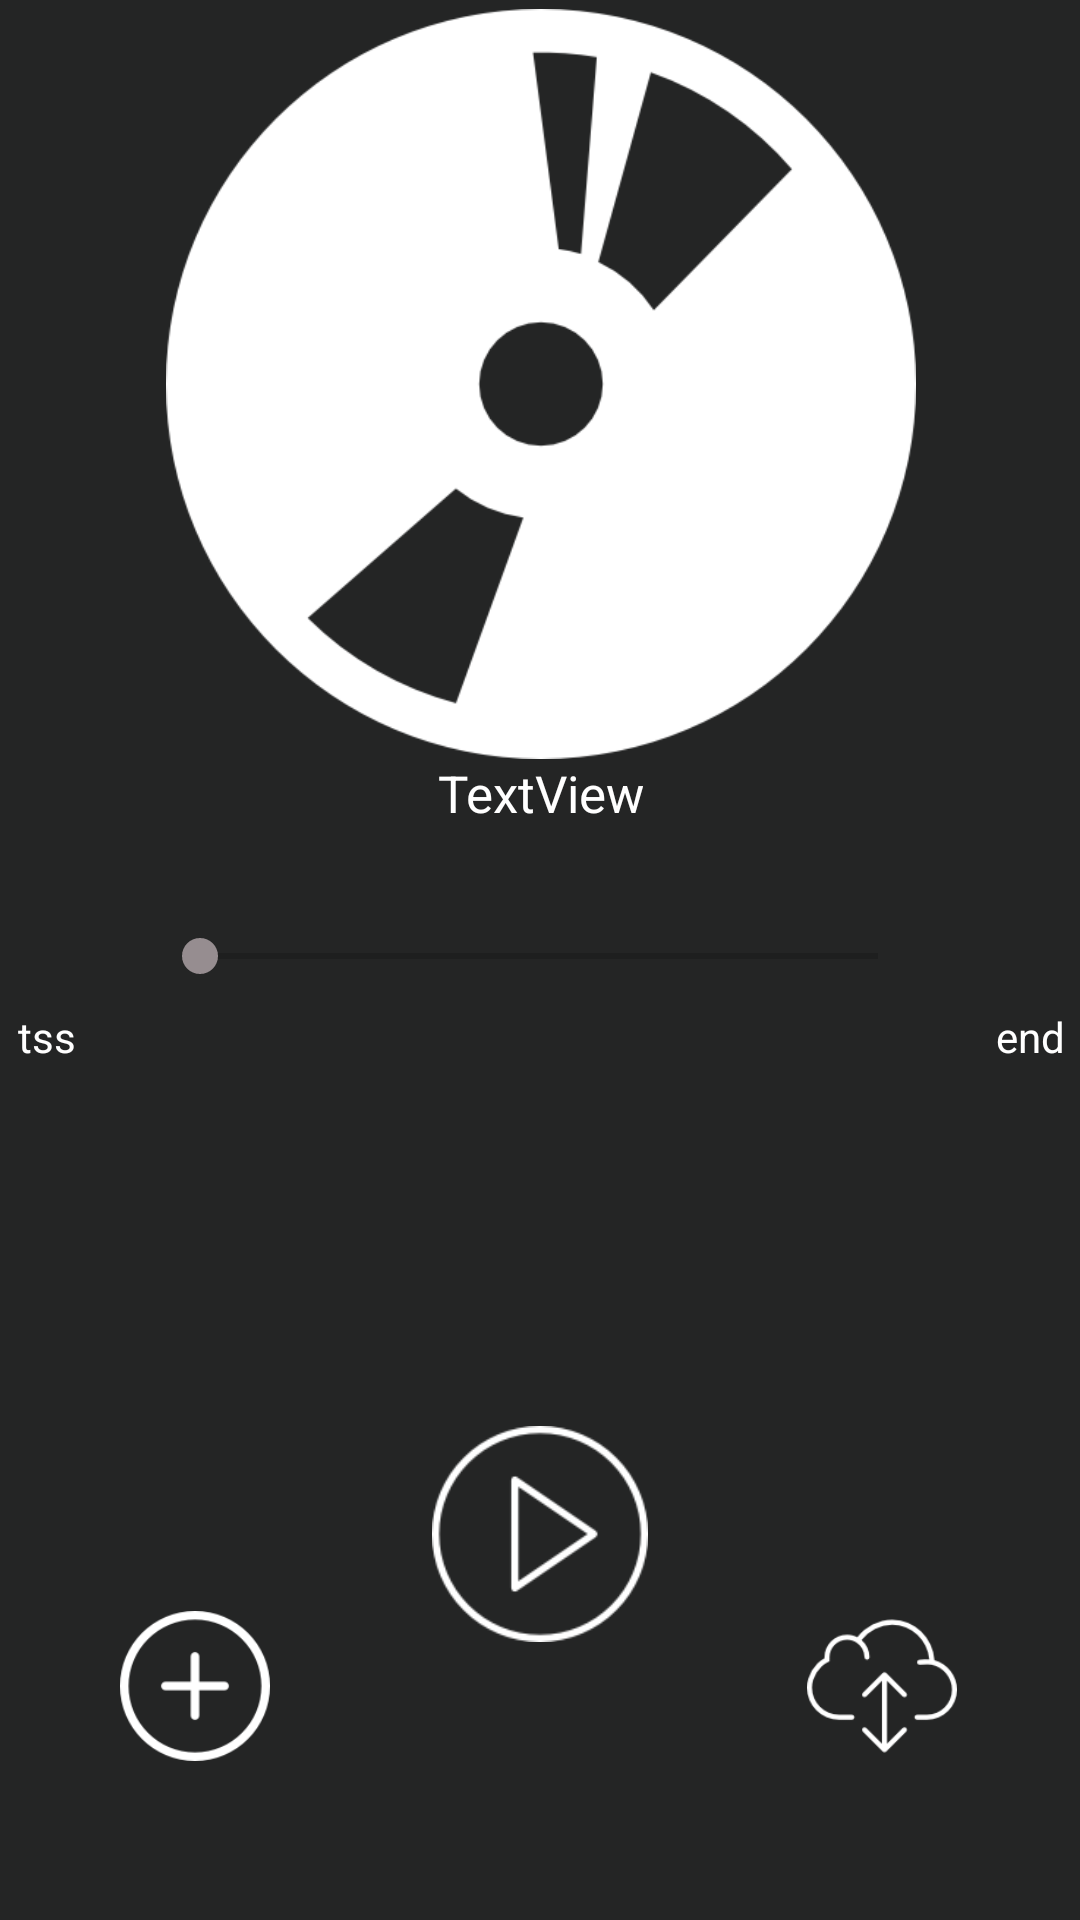

Screen size 1080*1920. Icon name, then its box in pixels as (x1, y1, x2, y2):
download: (807, 1619, 957, 1753)
plusbutton: (120, 1611, 270, 1761)
